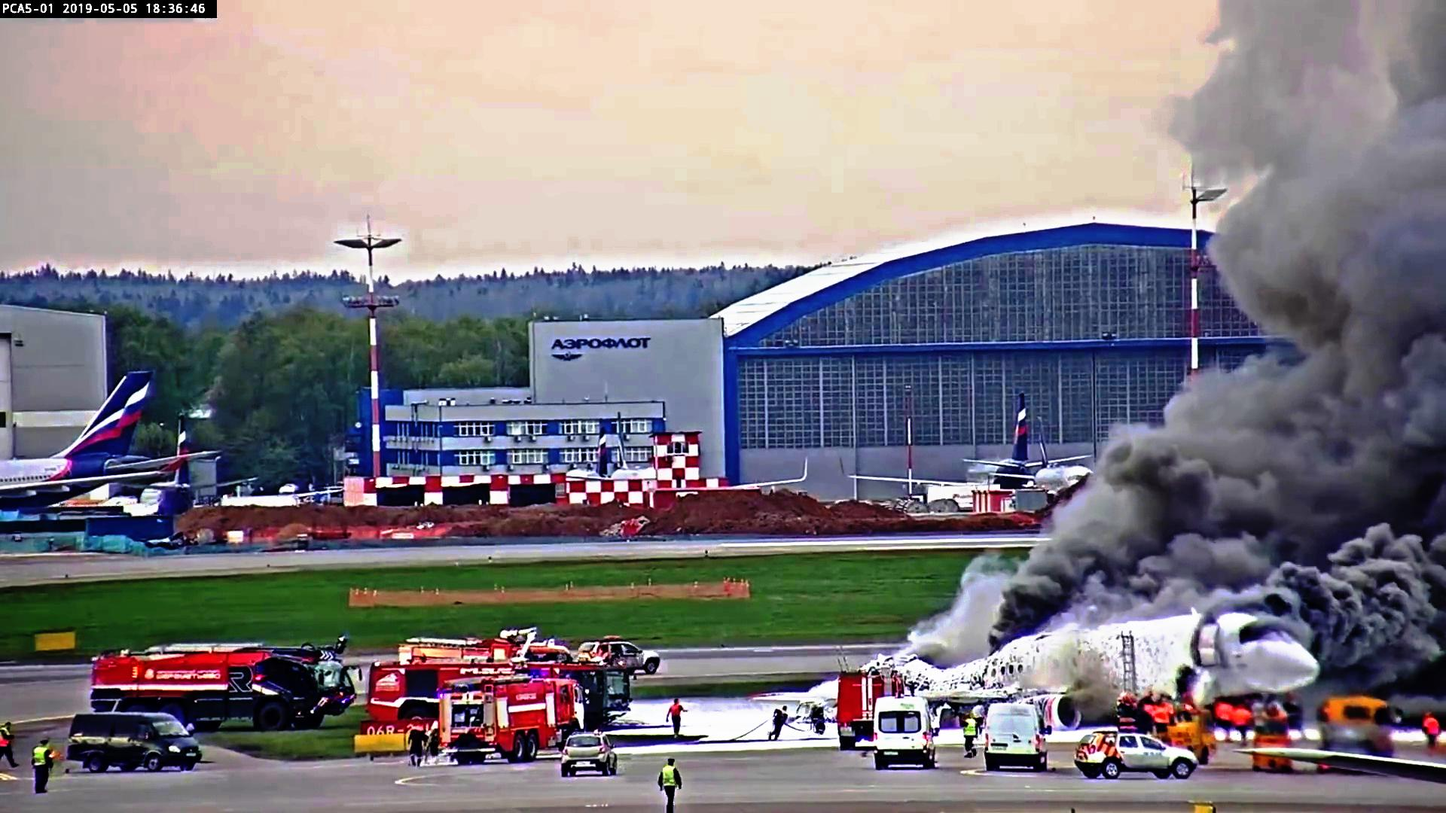smoke: (1203, 0, 1436, 589), (1114, 384, 1298, 605), (1300, 522, 1446, 679), (1002, 509, 1120, 650)
